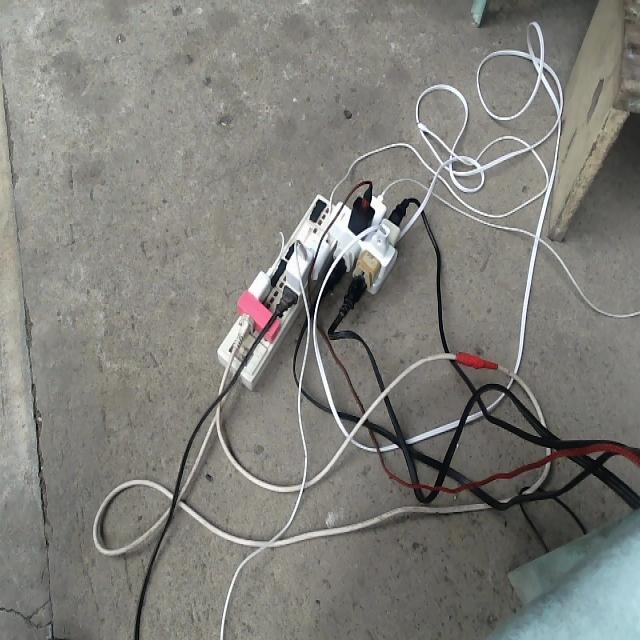-: (217, 190, 399, 390)
